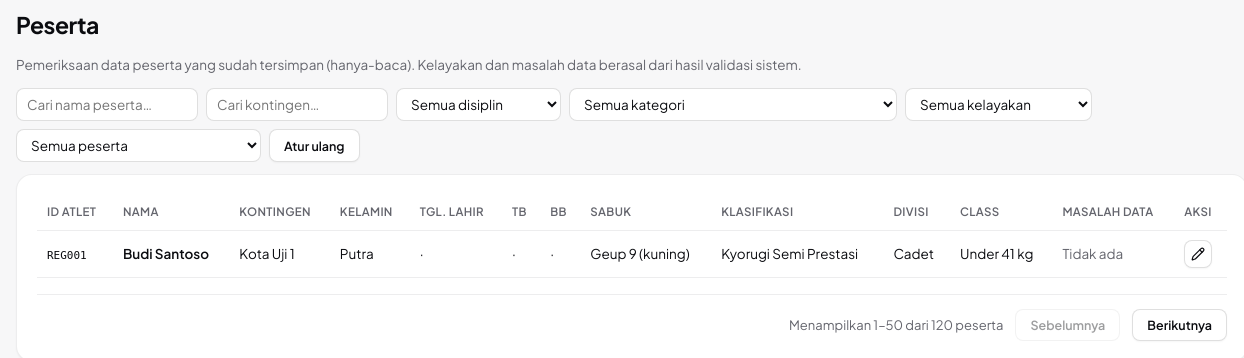
it: PesertaPage › paginates with Sebelumnya/Berikutnya
Expected: the row with test id "entry-row" is shown, [37,231,1227,278]
Expected: the text with test id "entry-range" reads "Menampilkan 1–50 dari 120 peserta", [789,316,1003,335]
Click the button "Berikutnya".
click(1180, 325)  # box [1132,309,1227,341]
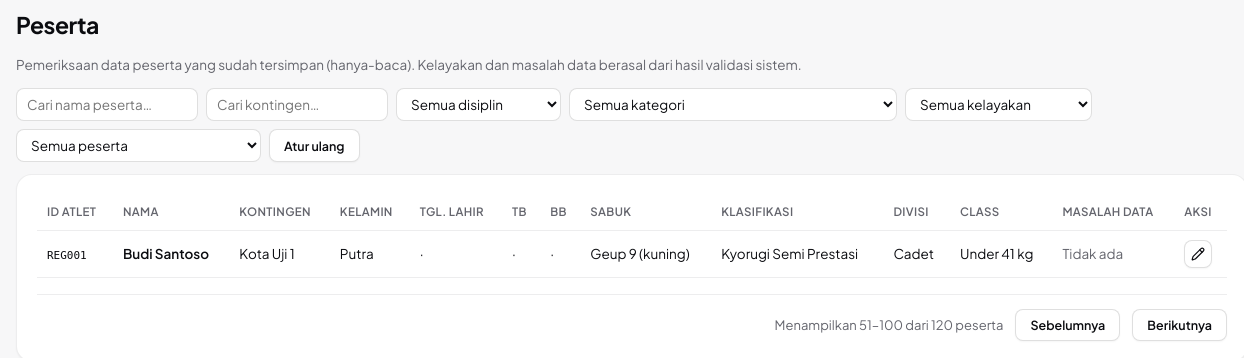
Now the text with test id "entry-range" reads "Menampilkan 51–100 dari 120 peserta", box [775,316,1003,335]
Click the button "Berikutnya".
click(1180, 325)  # box [1132,309,1227,341]
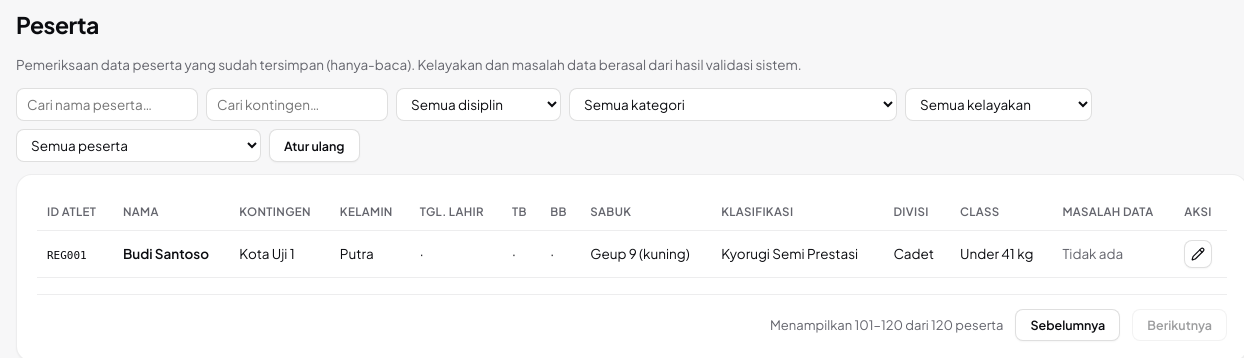
Now the text with test id "entry-range" reads "Menampilkan 101–120 dari 120 peserta", box [770,316,1003,335]
Now the button "Berikutnya" is disabled, box [1132,309,1227,341]
